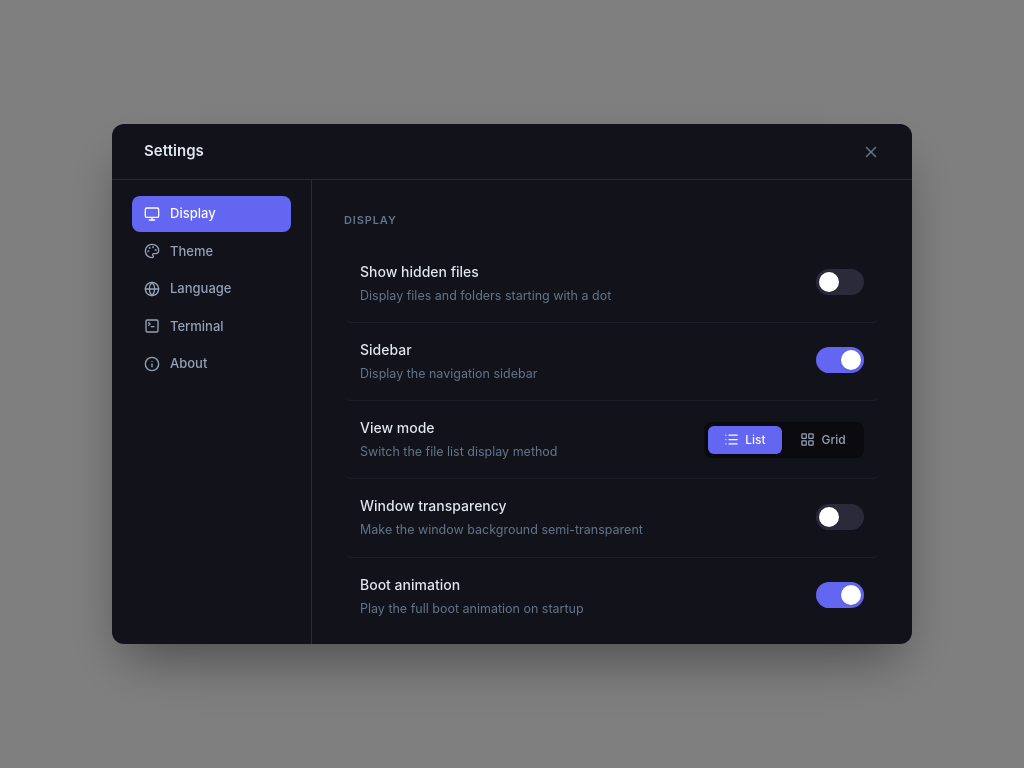
Scenario: SettingsDialog › 言語選択ドロップダウンが表示される
The width and height of the screenshot is (1024, 768).
Click the button "Language".
click(212, 289)  # box left=132, top=271, right=291, bottom=306
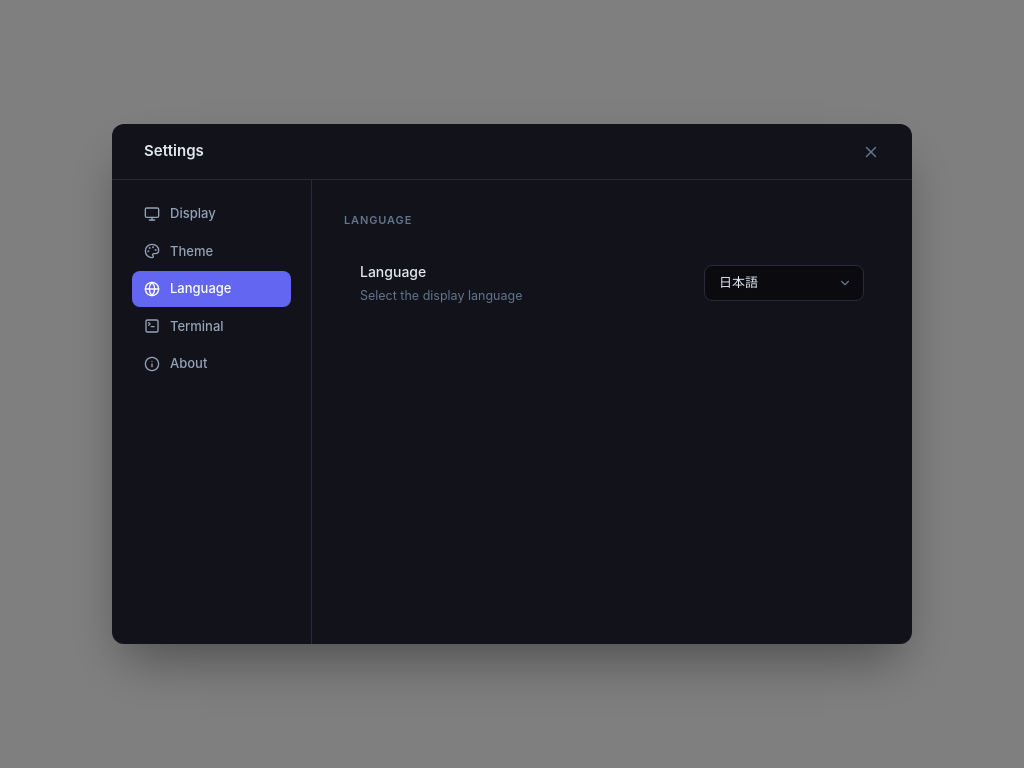
Now the dropdown named "language" shows "日本語", box left=704, top=265, right=864, bottom=301
